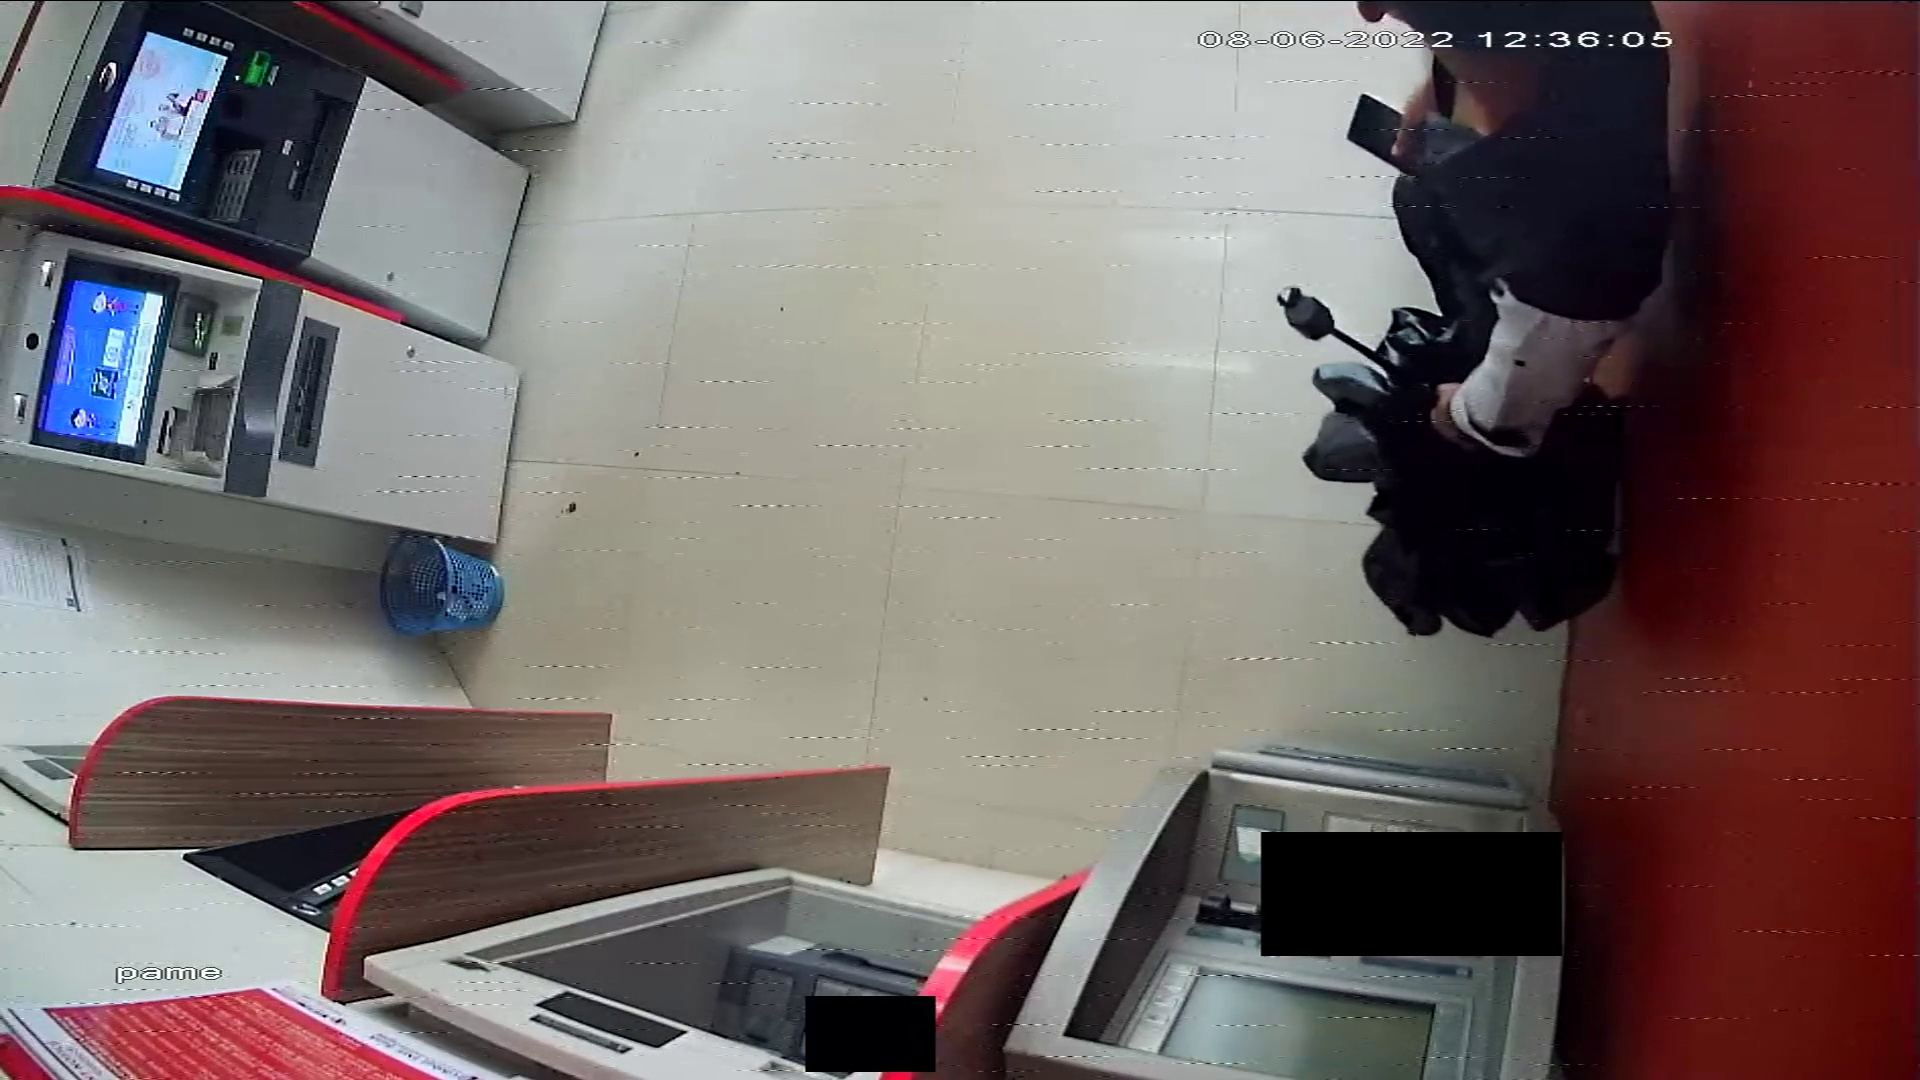person: (1351, 2, 1669, 470)
phone: (1344, 91, 1413, 165)
